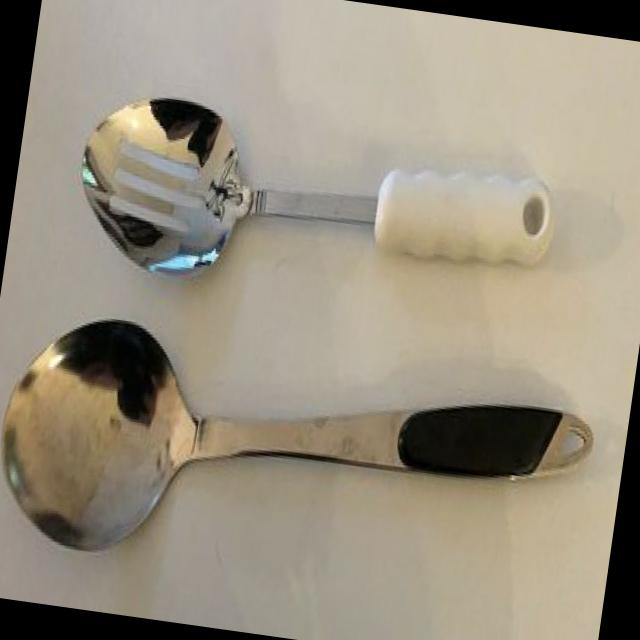spoon: (0, 290, 613, 638)
